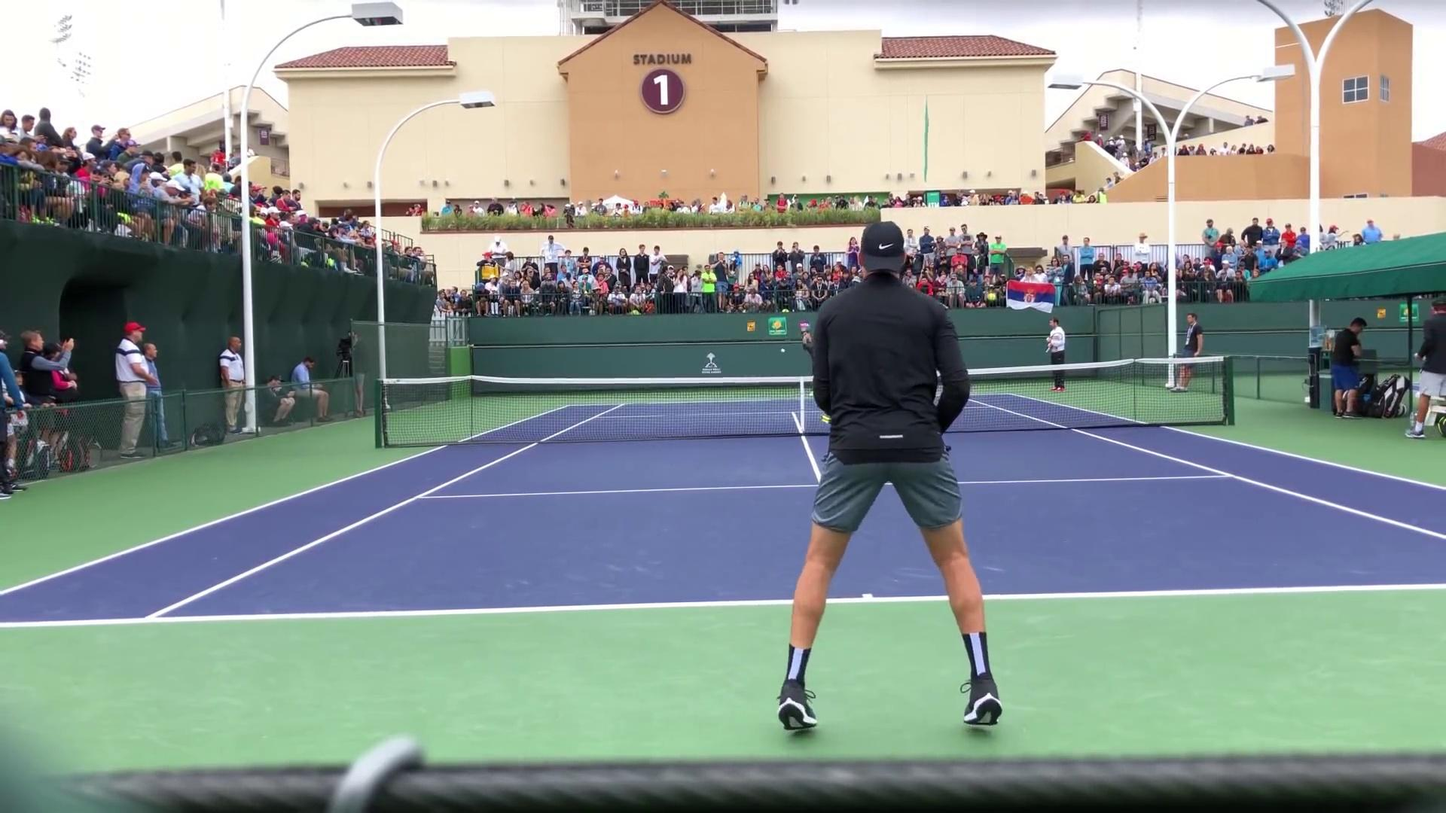ball: (779, 346, 786, 353)
